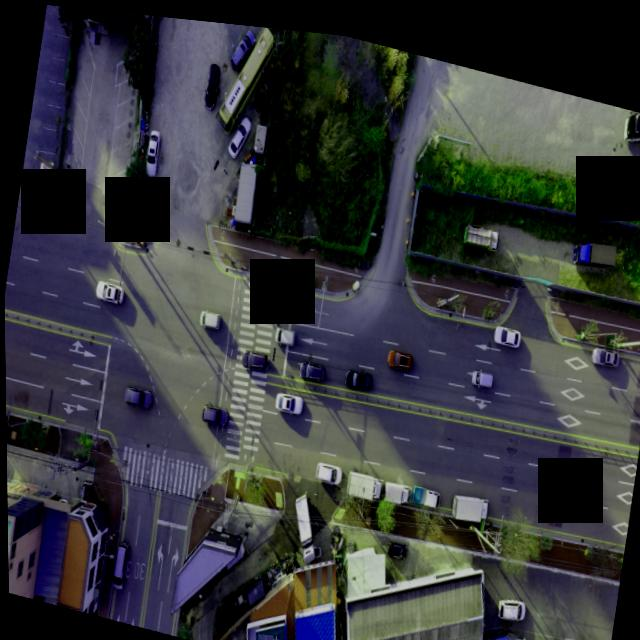car: (105, 534, 129, 594), (228, 19, 255, 68), (226, 108, 253, 156), (201, 58, 223, 110), (494, 584, 525, 614), (143, 126, 160, 174), (313, 455, 342, 482), (94, 277, 124, 303), (492, 311, 520, 338), (122, 382, 151, 408), (273, 385, 302, 411), (198, 399, 227, 424), (343, 359, 370, 385), (385, 338, 412, 364), (591, 332, 619, 356), (239, 343, 266, 367), (299, 355, 324, 377), (198, 304, 221, 327), (274, 320, 296, 343), (471, 359, 493, 380), (385, 532, 407, 553)
large_bus: (213, 17, 281, 136), (618, 94, 640, 142)
medium_truck: (570, 219, 621, 270), (285, 482, 322, 552), (341, 455, 384, 502), (446, 478, 488, 518)
small_truck: (459, 210, 500, 242), (379, 470, 411, 504), (409, 477, 438, 504)
